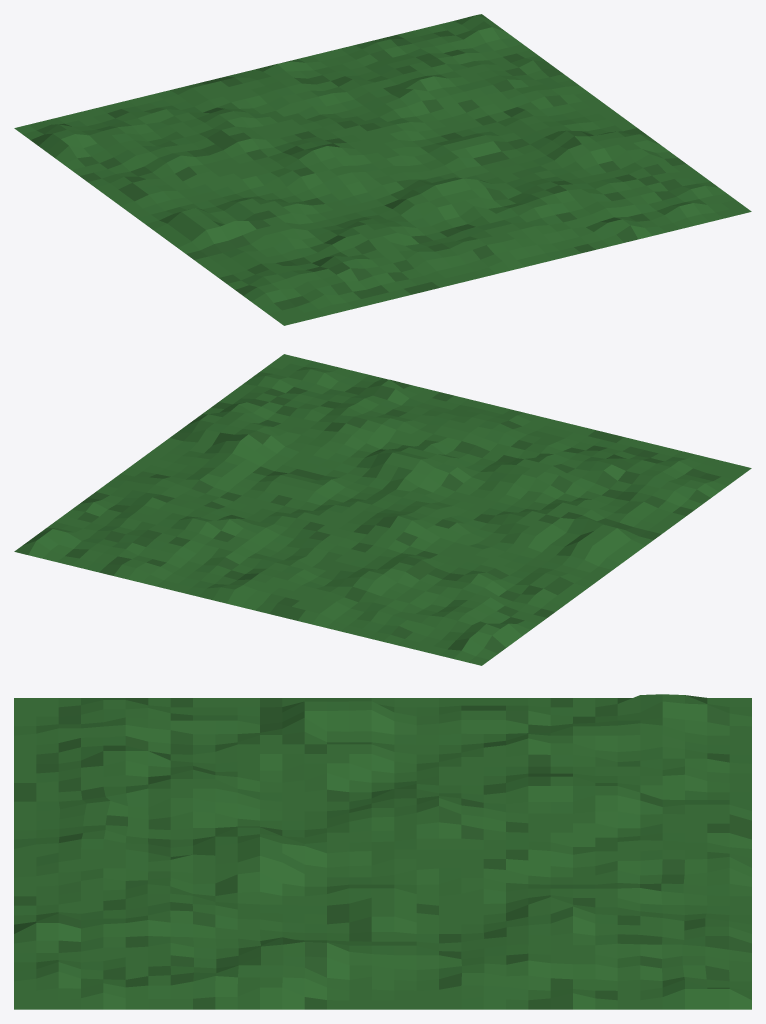
The model's file is Terrain_3_Green.fbx.
3 renders of one model, top to bottom at view 1: azimuth 30°, elevation 25°; view 2: azimuth 150°, elevation 25°; view 3: azimuth 270°, elevation 25°, orthographic. The views are drawn at different scales.
Parts seen in each view (by area): view 1: Terrain_3_Green; view 2: Terrain_3_Green; view 3: Terrain_3_Green.
Boxes of the visible parts, x1,y1,x2,y2 form: Terrain_3_Green: (14, 14, 751, 325); Terrain_3_Green: (14, 354, 751, 665); Terrain_3_Green: (14, 694, 751, 1009).
Size of the model in its own units: 10000 by 362 by 10000.
